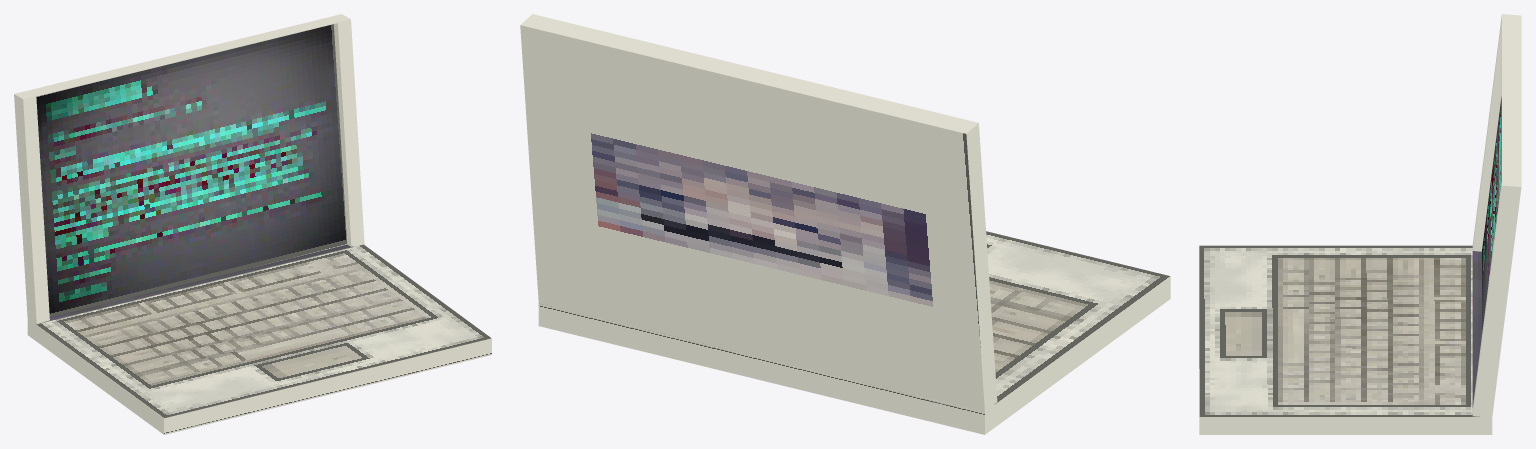
The model's file is notebook_no_estilo_de_ps1.glb.
3 renders of one model, left to right at view 1: azimuth 30°, elevation 25°; view 2: azimuth 150°, elevation 25°; view 3: azimuth 270°, elevation 25°, orthographic. The views are drawn at different scales.
Parts seen in each view (by area): view 1: Object_2; view 2: Object_2; view 3: Object_2.
Part boxes in pixels (x1,y1,x2,y2): Object_2: (14,14,491,434); Object_2: (520,14,1170,434); Object_2: (1199,14,1521,434).
Bounding box in the file's own units: 2 × 1.36 × 1.59.
Materials: 1 (1 with a texture image).
